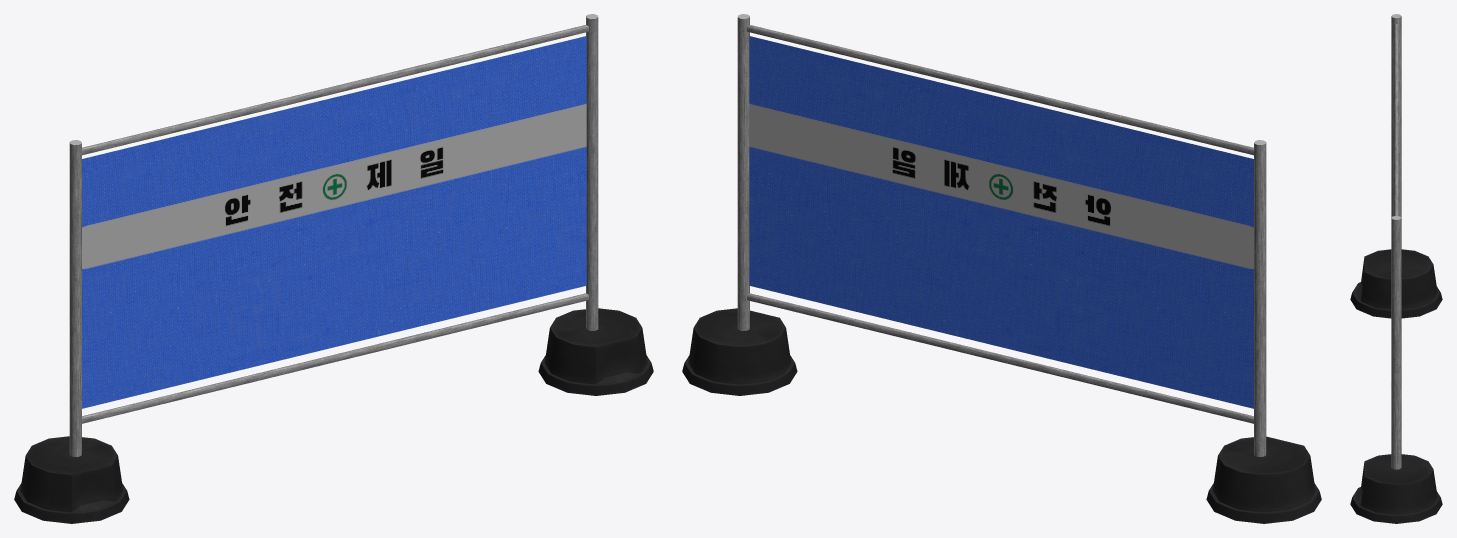
File: eq_Safe_Panel.fbx
3 views of the same model, side by side, from view 1: azimuth 30°, elevation 25°; view 2: azimuth 150°, elevation 25°; view 3: azimuth 270°, elevation 25° (orthographic). The views are drawn at different scales.
Parts seen in each view (by area): view 1: Panel; view 2: Panel; view 3: Panel.
Part boxes in pixels (bbox=[...]): Panel: bbox=[14, 14, 653, 523]; Panel: bbox=[682, 14, 1321, 523]; Panel: bbox=[1350, 14, 1442, 523].
Size of the model in its own units: 4.78 by 2.6 by 0.765.
